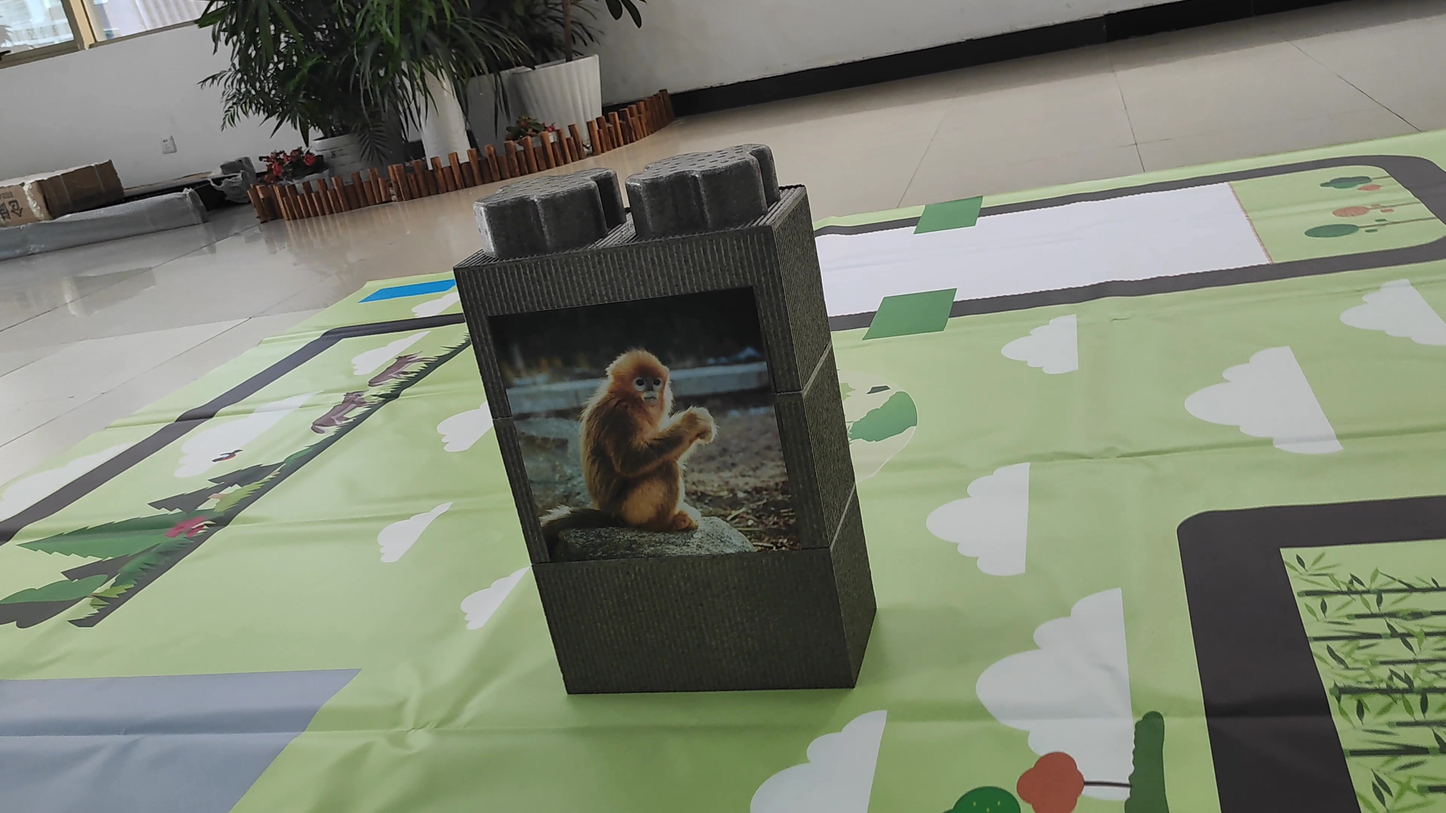monkey: (519, 326, 741, 558)
